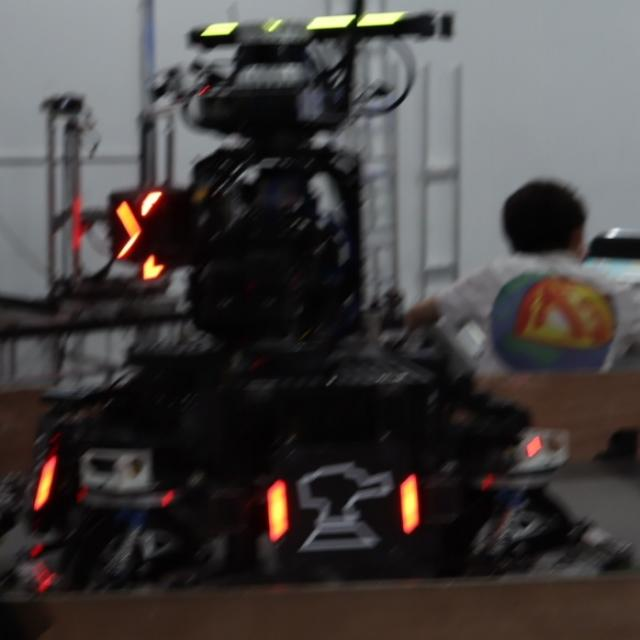Rs: (264, 460, 420, 552)
